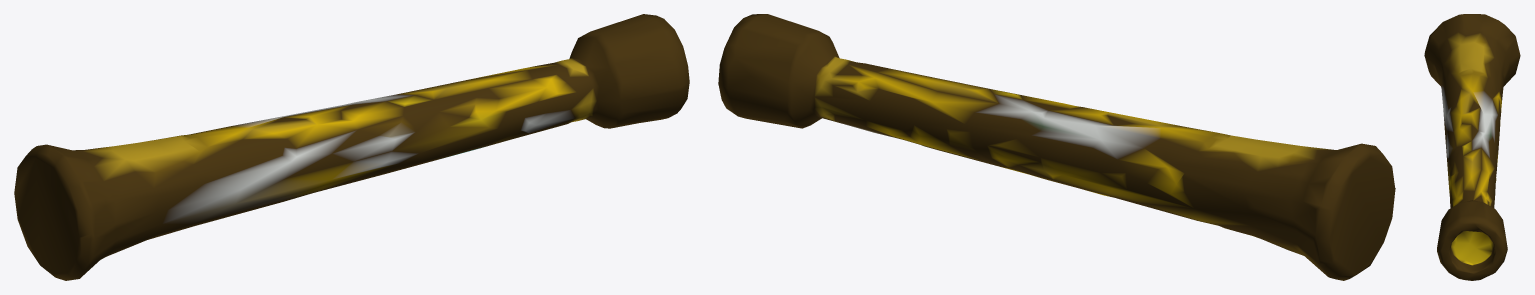
Rendered from gen3d-didgeridoo-lod1.glb.
The picture shows the model from 3 angles, left to right: view 1: azimuth 30°, elevation 25°; view 2: azimuth 150°, elevation 25°; view 3: azimuth 270°, elevation 25°; orthographic projection. The views are drawn at different scales.
Parts seen in each view (by area): view 1: part_0; view 2: part_0; view 3: part_0.
Part boxes in pixels (x1,y1,x2,y2): part_0: (14, 14, 689, 280); part_0: (718, 14, 1395, 280); part_0: (1424, 14, 1520, 280).
Size of the model in its own units: 5.22 by 0.9969 by 1.06.
